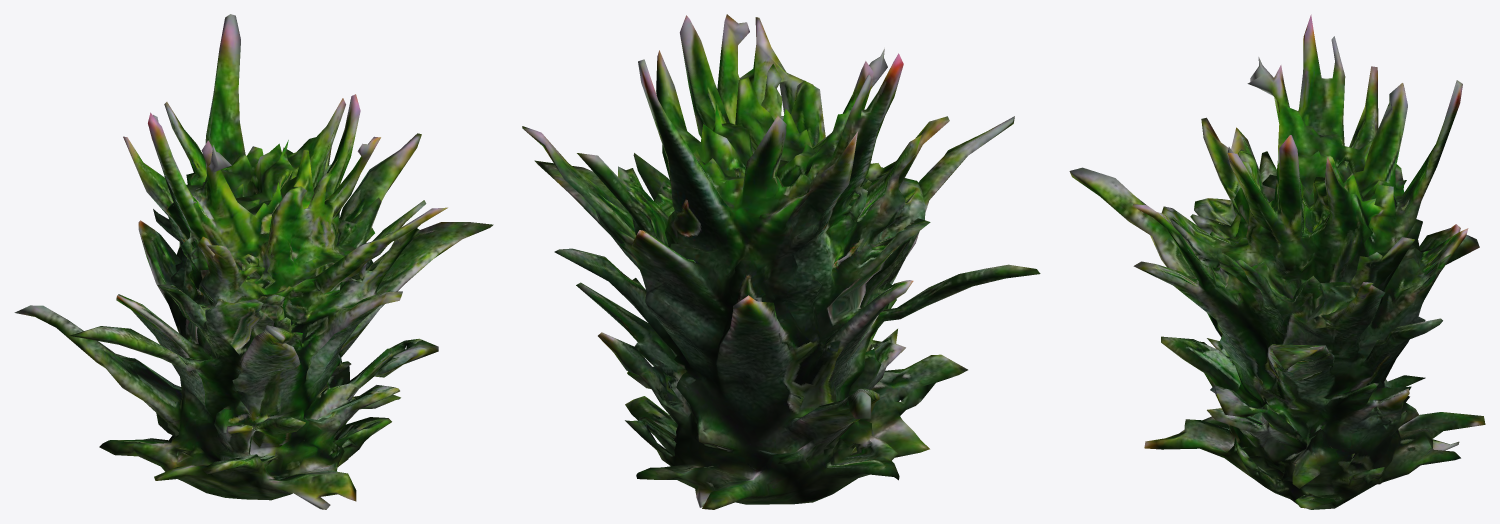
File: Aloe.glb
The picture shows the model from 3 angles, left to right: view 1: azimuth 30°, elevation 25°; view 2: azimuth 150°, elevation 25°; view 3: azimuth 270°, elevation 25°; orthographic projection. The views are drawn at different scales.
Parts seen in each view (by area): view 1: node_ebcd3c97_5e4d_444d_96f9_89700d631de9_mesh0; view 2: node_ebcd3c97_5e4d_444d_96f9_89700d631de9_mesh0; view 3: node_ebcd3c97_5e4d_444d_96f9_89700d631de9_mesh0.
Boxes of the visible parts, bbox=[...] form: node_ebcd3c97_5e4d_444d_96f9_89700d631de9_mesh0: bbox=[14, 14, 493, 509]; node_ebcd3c97_5e4d_444d_96f9_89700d631de9_mesh0: bbox=[522, 14, 1040, 509]; node_ebcd3c97_5e4d_444d_96f9_89700d631de9_mesh0: bbox=[1069, 14, 1485, 509].
Bounding box in the file's own units: 1.01 × 0.9314 × 0.8141.
Materials: 1 (1 with a texture image).
